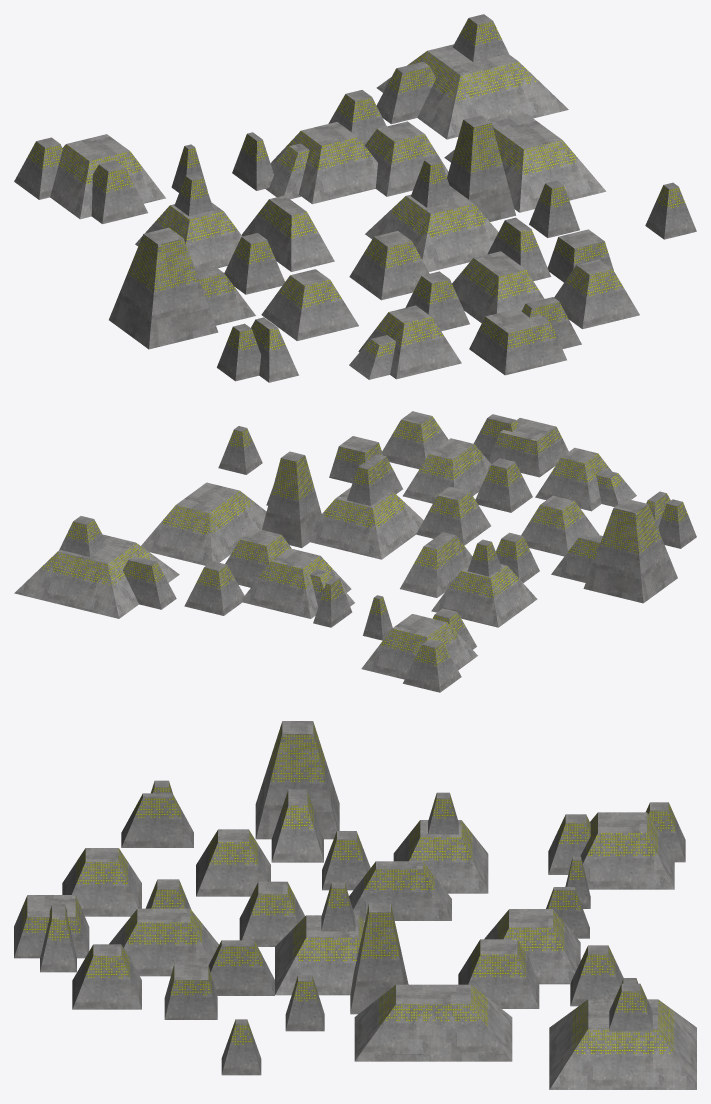
The model's file is SM_Building_02.fbx.
3 renders of one model, top to bottom at view 1: azimuth 30°, elevation 25°; view 2: azimuth 150°, elevation 25°; view 3: azimuth 270°, elevation 25°, orthographic. The views are drawn at different scales.
Parts seen in each view (by area): view 1: SM_Building_02; view 2: SM_Building_02; view 3: SM_Building_02.
Boxes of the visible parts, x1,y1,x2,y2 form: SM_Building_02: [14, 14, 696, 382]; SM_Building_02: [14, 411, 696, 692]; SM_Building_02: [14, 721, 696, 1089].
Size of the model in its own units: 18.26 by 2.88 by 18.43.
